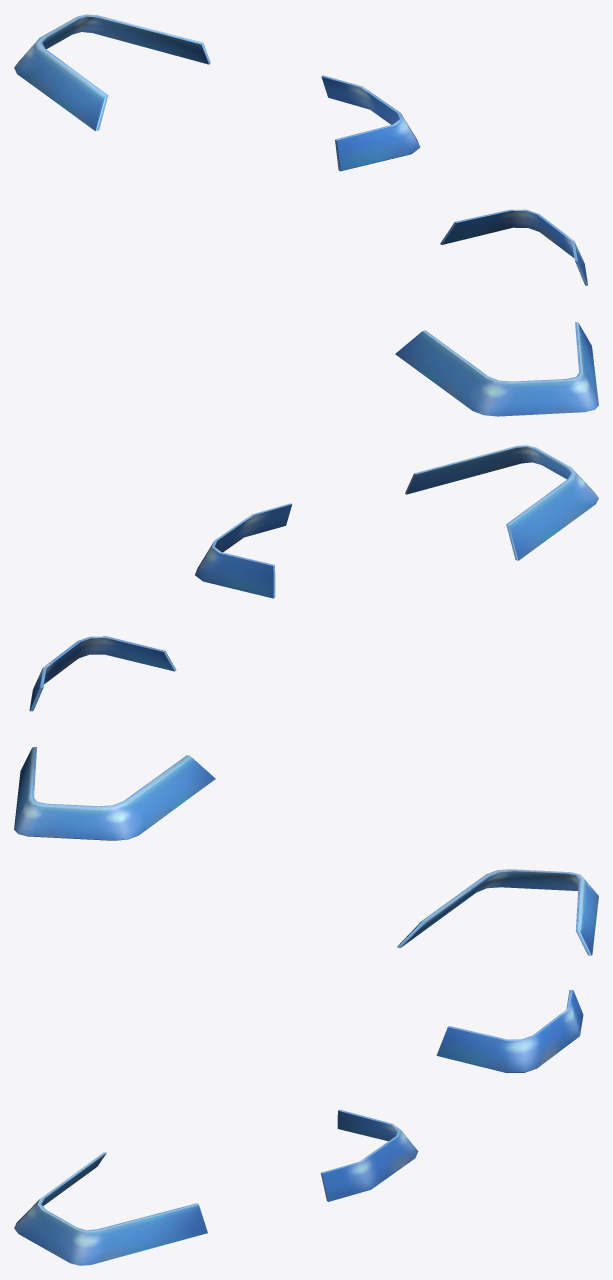
The model's file is pref_sm_beach_winter_pointmol_glass05_lv1.fbx.
The picture shows the model from 3 angles, top to bottom: view 1: azimuth 30°, elevation 25°; view 2: azimuth 150°, elevation 25°; view 3: azimuth 330°, elevation 25°; orthographic projection.
Visible parts, largest first — view 1: pref_sm_beach_winter_pointmol_glass05_lv1; view 2: pref_sm_beach_winter_pointmol_glass05_lv1; view 3: pref_sm_beach_winter_pointmol_glass05_lv1.
Part boxes in pixels (<box>): pref_sm_beach_winter_pointmol_glass05_lv1: <box>14,14,598,416</box>; pref_sm_beach_winter_pointmol_glass05_lv1: <box>14,445,598,840</box>; pref_sm_beach_winter_pointmol_glass05_lv1: <box>14,869,598,1265</box>.
Size of the model in its own units: 9.91 by 1.04 by 37.64.
